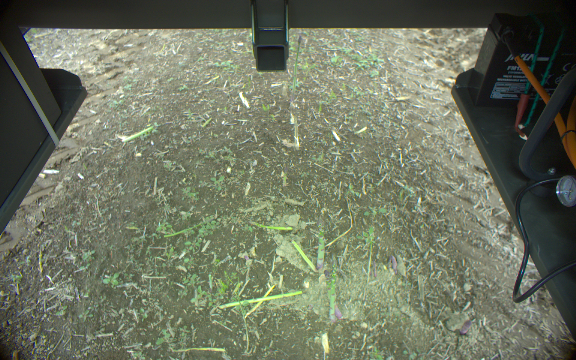aspa: (290, 32, 303, 113), (323, 255, 336, 325), (314, 214, 326, 270)
